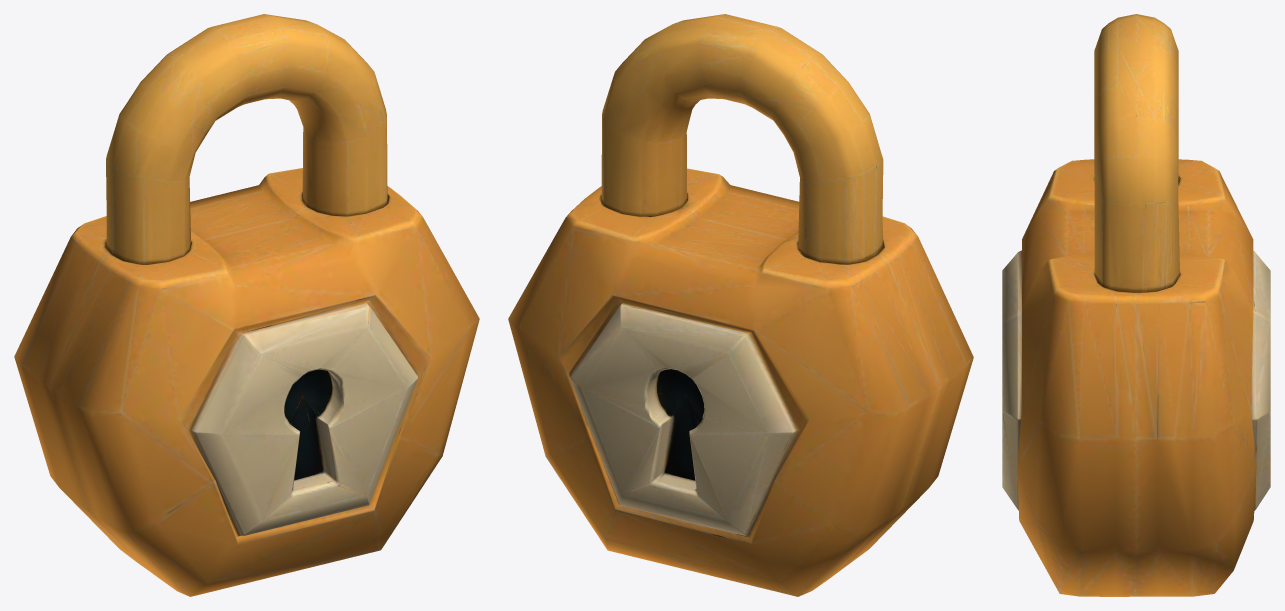
The model's file is lock_02.glb.
3 renders of one model, left to right at view 1: azimuth 30°, elevation 25°; view 2: azimuth 150°, elevation 25°; view 3: azimuth 270°, elevation 25°, orthographic.
Visible parts, largest first — view 1: geometry_0; view 2: geometry_0; view 3: geometry_0.
Boxes of the visible parts, x1,y1,x2,y2 form: geometry_0: (14, 14, 479, 596); geometry_0: (508, 14, 973, 596); geometry_0: (1002, 14, 1270, 596).
Bounding box in the file's own units: 0.7544 × 0.9517 × 0.4458.
1 material, 1 textured.
